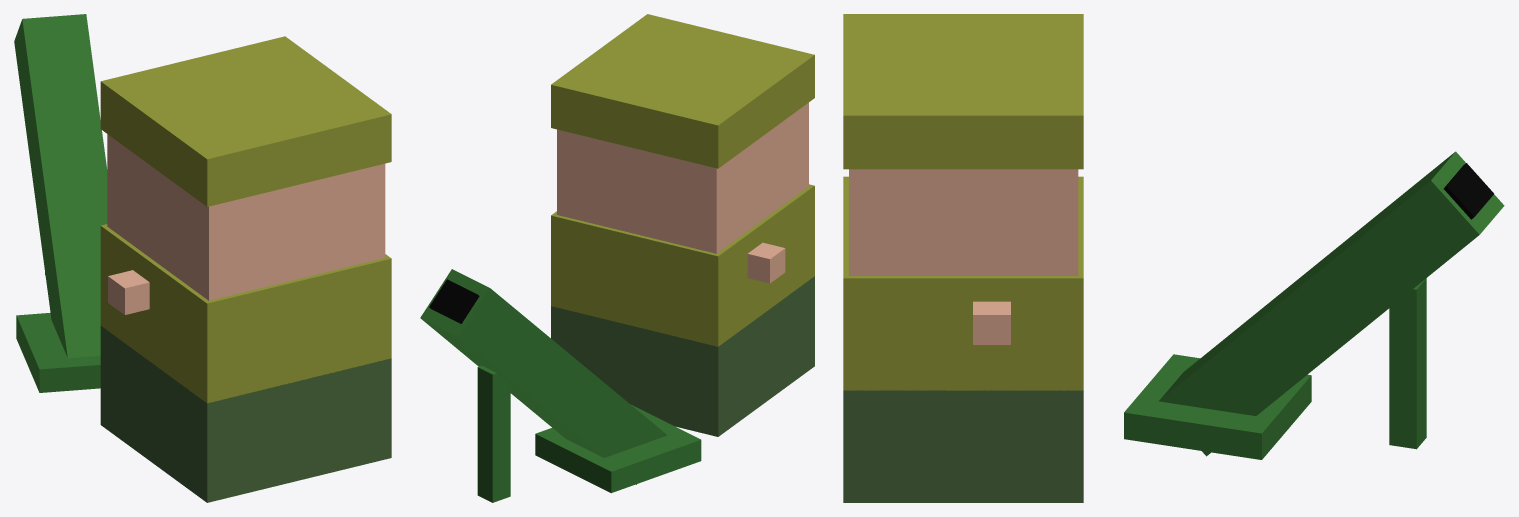
The model's file is doonMortar.gltf.
3 renders of one model, left to right at view 1: azimuth 30°, elevation 25°; view 2: azimuth 150°, elevation 25°; view 3: azimuth 270°, elevation 25°, orthographic. The views are drawn at different scales.
Visible parts, largest first — view 1: Cube.003, Cube.001, Cube, Cube.002, Cube.005, Cube.004, Cube.007; view 2: Cube.003, Cube, Cube.002, Cube.001, Cube.005, Cube.004, Cube.006, Cube.007, Cube.009; view 3: Cube.003, Cube.005, Cube, Cube.001, Cube.002, Cube.004, Cube.006, Cube.008, Cube.009.
Part boxes in pixels (x1,y1,x2,y2): Cube.003: (100,36,391,206); Cube.001: (100,326,391,502); Cube: (100,224,391,403); Cube.002: (107,134,385,300); Cube.005: (14,14,107,358); Cube.004: (16,312,100,392); Cube.007: (108,270,149,314); Cube.003: (551,14,814,168); Cube: (551,184,814,346); Cube.002: (557,102,808,253); Cube.001: (551,276,814,436); Cube.005: (420,269,667,484); Cube.004: (535,404,701,493); Cube.006: (477,365,510,502); Cube.007: (747,242,785,283); Cube.009: (429,279,479,323); Cube.003: (843,14,1083,169); Cube.005: (1159,151,1504,456); Cube: (843,176,1083,390); Cube.001: (843,390,1083,502); Cube.002: (849,169,1078,275); Cube.004: (1124,354,1311,459); Cube.006: (1389,278,1426,449); Cube.008: (973,301,1010,344); Cube.009: (1443,163,1493,219).
Size of the model in its own units: 1.16 by 1.68 by 2.52.
